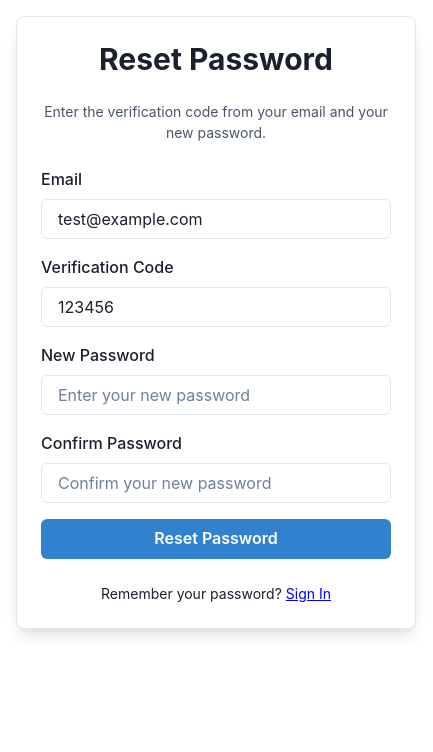
ResetPassword Component › validates required fields
Clear the field labelled "Email": (216, 219) x1=41 y1=199 x2=391 y2=239
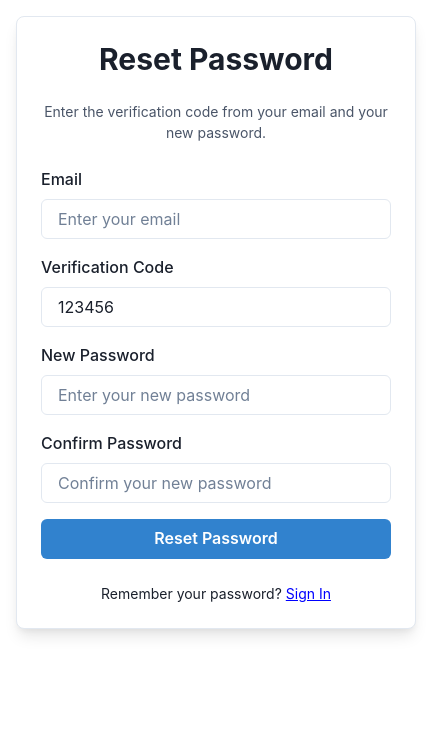
Clear the field labelled "Verification Code": (216, 307) x1=41 y1=287 x2=391 y2=327
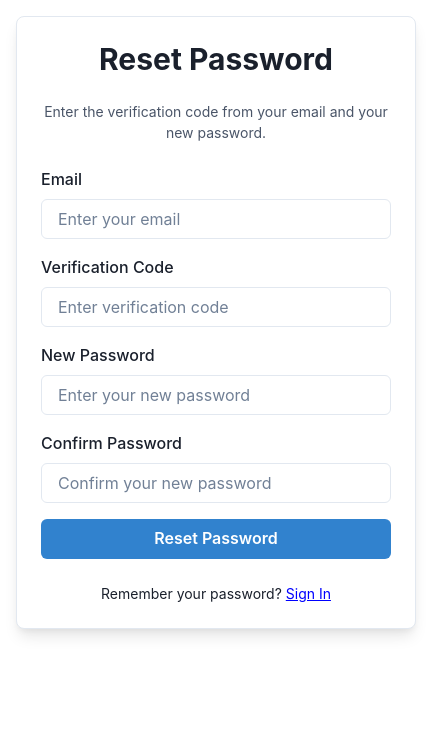
Click the button "Reset Password": (216, 539) x1=41 y1=519 x2=391 y2=559
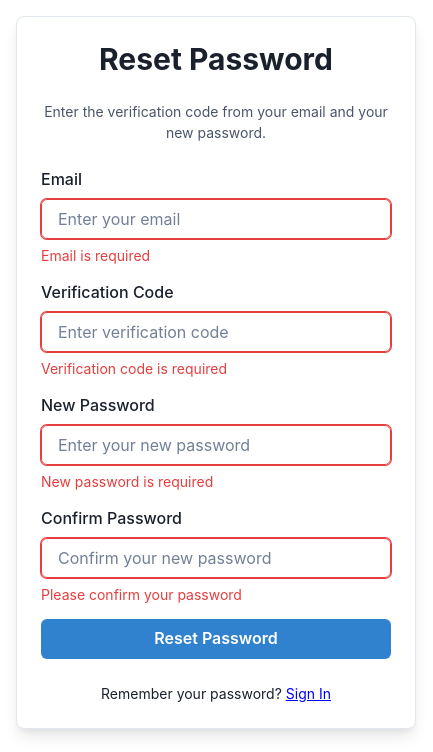
Check: the text "Email is required" is shown, box x1=41 y1=247 x2=150 y2=264
Check: the text "Verification code is required" is shown, box x1=41 y1=360 x2=227 y2=377
Check: the text "New password is required" is shown, box x1=41 y1=473 x2=213 y2=490
